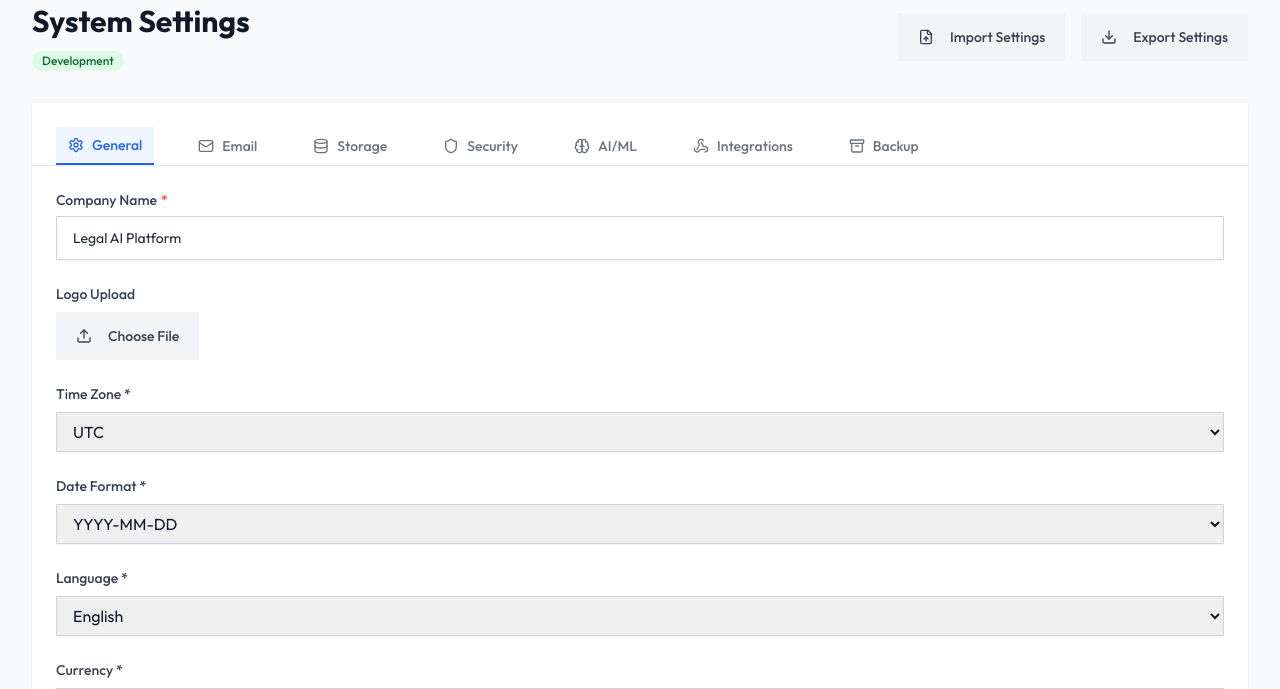
Test: SystemSettingsPage › Email Settings Tab › should have test email button
What coordinates should you click on to do the following:
click the tab "Email"
I would click on:
 (228, 146)
Its box is [186,127,269,165].
(page scrolled)
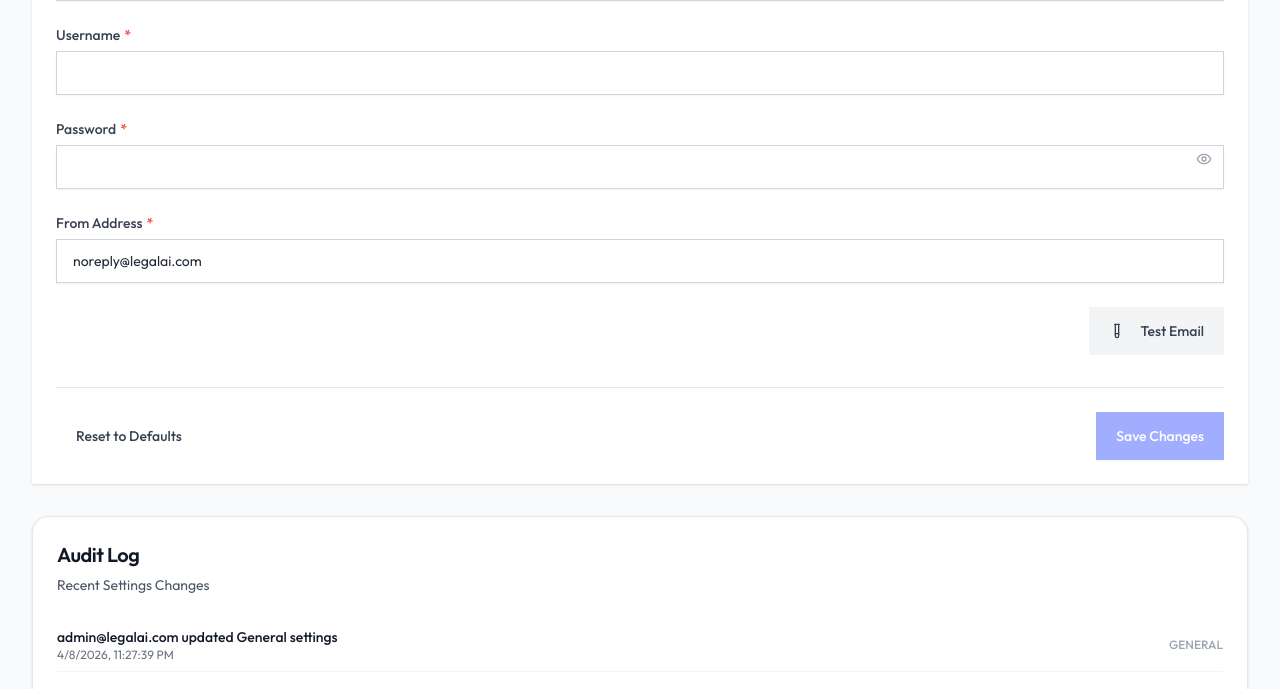
Expected: the button "Test Email" is shown, [1088,307,1224,355]
